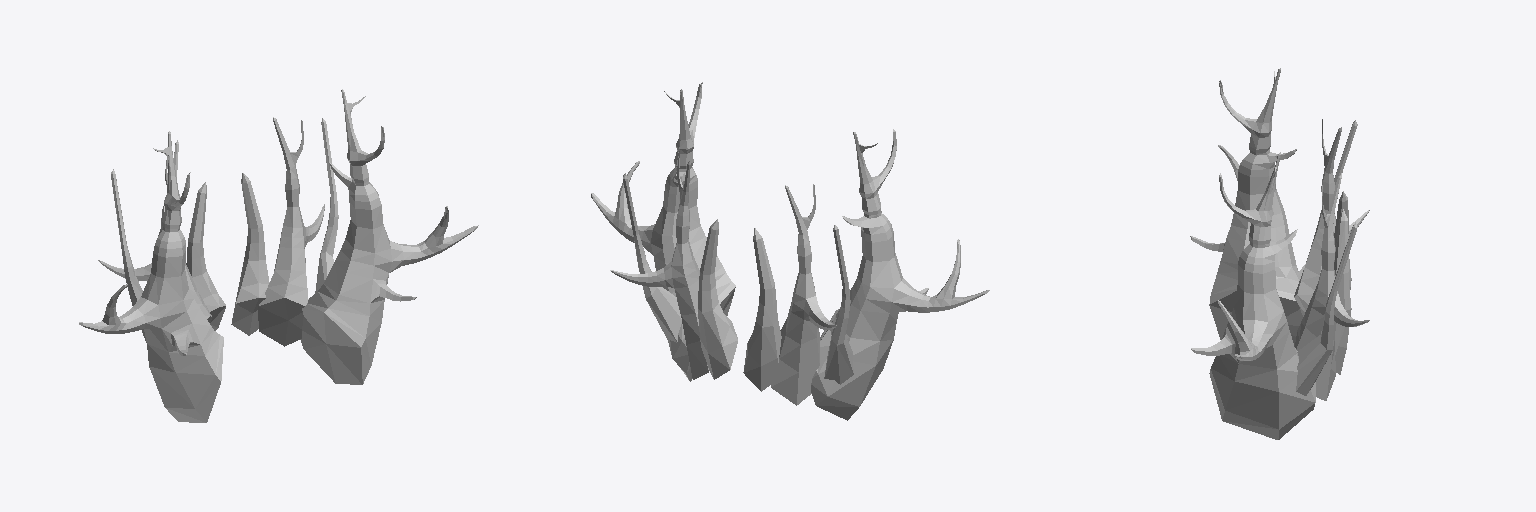
File: fusionbracebranches.obj
The picture shows the model from 3 angles: view 1: azimuth 30°, elevation 25°; view 2: azimuth 150°, elevation 25°; view 3: azimuth 270°, elevation 25°; orthographic projection.
Parts seen in each view (by area): view 1: Fusionbrace1; view 2: Fusionbrace1; view 3: Fusionbrace1.
Part boxes in pixels (x1,y1,x2,y2): Fusionbrace1: (79, 89, 478, 422); Fusionbrace1: (591, 82, 989, 420); Fusionbrace1: (1190, 68, 1369, 439).
Bounding box in the file's own units: 2.74 × 1.91 × 1.07.